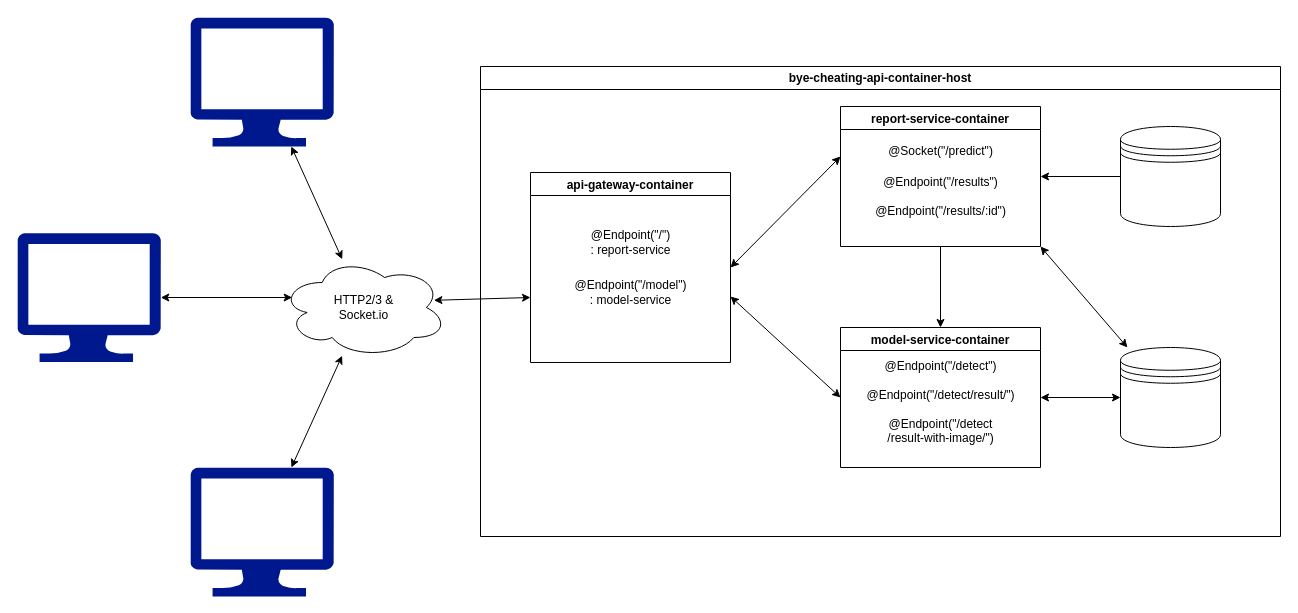
Image size: 1298x613. Some labels were removed from this diagram. The shapes that lost their labels are listed below. From the top down, each one's centre as x and y in pixels, then its label:
(x=1170, y=176): MongoDB Remote
(x=1170, y=397): redis-container
